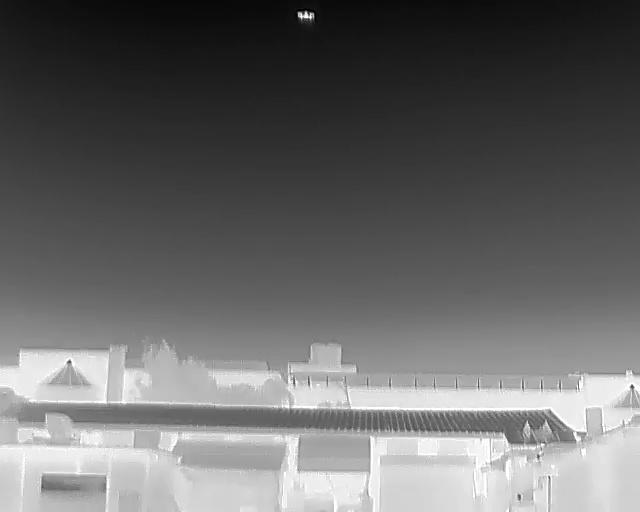fpv-drone: (296, 9, 315, 24)
